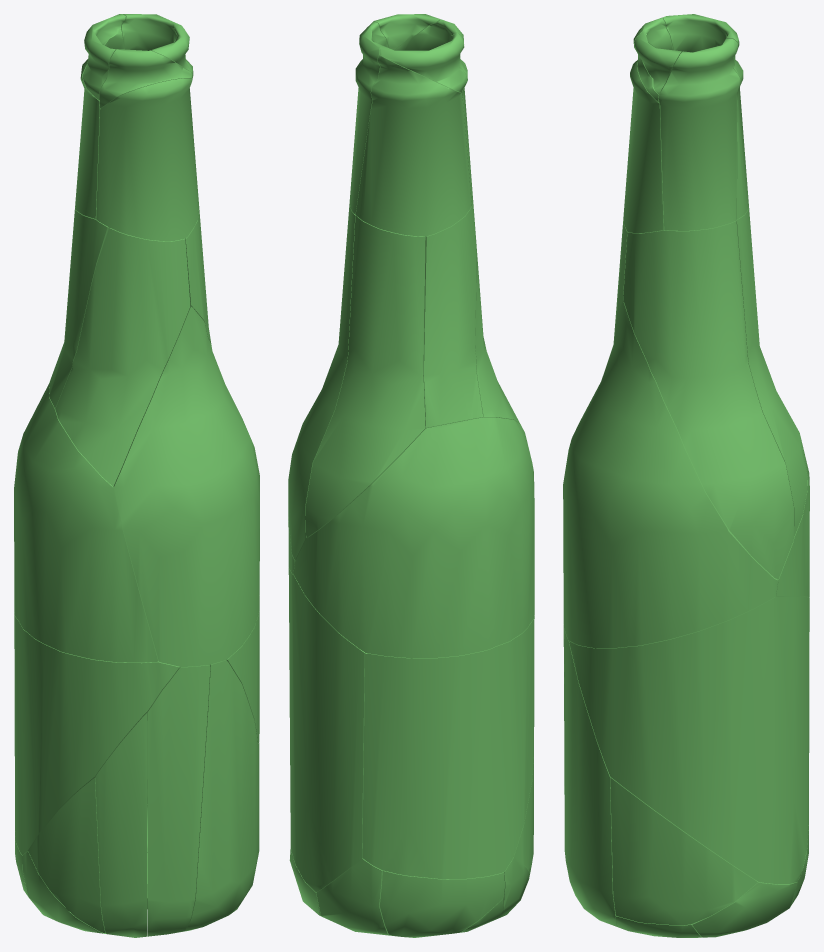
File: ShardsGlassBottle4.fbx
3 renders of one model, left to right at view 1: azimuth 30°, elevation 25°; view 2: azimuth 150°, elevation 25°; view 3: azimuth 270°, elevation 25°, orthographic.
Visible parts, largest first — view 1: Circle_cell.023, Circle_cell.010, Circle_cell.006, Circle_cell, Circle_cell.007, Circle_cell.008, Circle_cell.012, Circle_cell.014, Circle_cell.021, Circle_cell.003, Circle_cell.020, Circle_cell.018 (+6 smaller); view 2: Circle_cell.010, Circle_cell, Circle_cell.017, Circle_cell.019, Circle_cell.018, Circle_cell.003, Circle_cell.015, Circle_cell.005, Circle_cell.011, Circle_cell.024, Circle_cell.013, Circle_cell.006 (+5 smaller); view 3: Circle_cell.019, Circle_cell.023, Circle_cell.005, Circle_cell.024, Circle_cell.016, Circle_cell.012, Circle_cell.017, Circle_cell.007, Circle_cell.001, Circle_cell.010, Circle_cell.013, Circle_cell.009 (+4 smaller).
Part boxes in pixels (x1=…): Circle_cell.023: x1=113, y1=306, x2=259, y2=666; Circle_cell.010: x1=14, y1=381, x2=158, y2=662; Circle_cell.006: x1=55, y1=228, x2=190, y2=486; Circle_cell: x1=14, y1=613, x2=180, y2=854; Circle_cell.007: x1=96, y1=78, x2=198, y2=241; Circle_cell.008: x1=147, y1=664, x2=210, y2=936; Circle_cell.012: x1=147, y1=660, x2=257, y2=931; Circle_cell.014: x1=95, y1=713, x2=147, y2=937; Circle_cell.021: x1=28, y1=777, x2=105, y2=933; Circle_cell.003: x1=49, y1=206, x2=109, y2=408; Circle_cell.020: x1=99, y1=49, x2=192, y2=108; Circle_cell.018: x1=75, y1=28, x2=124, y2=218; Circle_cell.010: x1=293, y1=417, x2=534, y2=658; Circle_cell: x1=362, y1=616, x2=534, y2=879; Circle_cell.017: x1=305, y1=215, x2=425, y2=537; Circle_cell.019: x1=288, y1=568, x2=365, y2=892; Circle_cell.018: x1=355, y1=55, x2=471, y2=236; Circle_cell.003: x1=423, y1=205, x2=483, y2=427; Circle_cell.015: x1=379, y1=870, x2=504, y2=937; Circle_cell.005: x1=288, y1=203, x2=355, y2=560; Circle_cell.011: x1=316, y1=858, x2=390, y2=935; Circle_cell.024: x1=349, y1=21, x2=388, y2=214; Circle_cell.013: x1=379, y1=32, x2=466, y2=92; Circle_cell.006: x1=473, y1=204, x2=519, y2=423; Circle_cell.019: x1=569, y1=596, x2=809, y2=884; Circle_cell.023: x1=563, y1=301, x2=778, y2=648; Circle_cell.005: x1=623, y1=220, x2=794, y2=579; Circle_cell.024: x1=658, y1=38, x2=740, y2=230; Circle_cell.016: x1=610, y1=777, x2=757, y2=925; Circle_cell.012: x1=564, y1=632, x2=617, y2=926; Circle_cell.017: x1=736, y1=208, x2=807, y2=536; Circle_cell.007: x1=623, y1=60, x2=664, y2=232; Circle_cell.001: x1=692, y1=881, x2=797, y2=937; Circle_cell.010: x1=776, y1=431, x2=809, y2=597; Circle_cell.013: x1=662, y1=14, x2=738, y2=52; Circle_cell.009: x1=634, y1=30, x2=681, y2=94.
Bounding box in the file's own units: 94.72 × 365 × 94.72.
